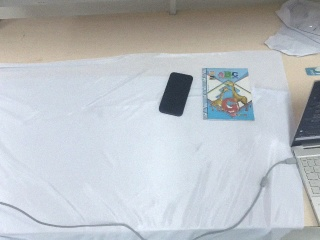book: (199, 66, 256, 123)
phone: (159, 72, 193, 117)
